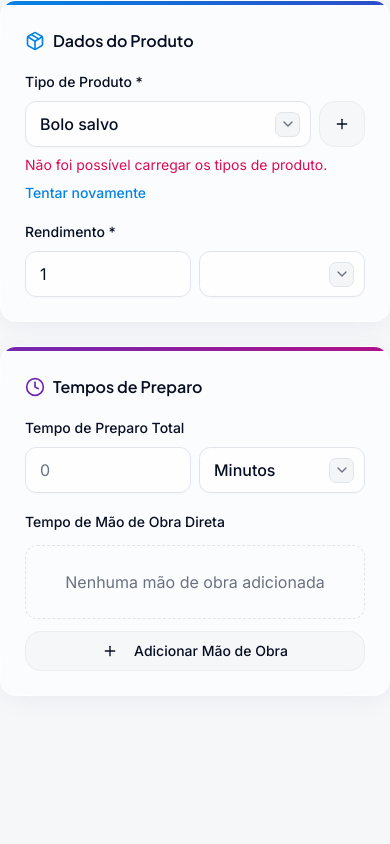
Test: product type loading and shared catalog › retries failed requests, explains the error and recovers without losing the selection
The image size is (390, 844).
Expected: the message shows "Não foi possível carregar os tipos de produto", [25,156,327,173]
Expected: the dropdown named "Tipo de Produto *" reads "Bolo salvo", [25,101,311,147]
Click the button "Tentar novamente" at (86, 193), box [25,183,146,203]
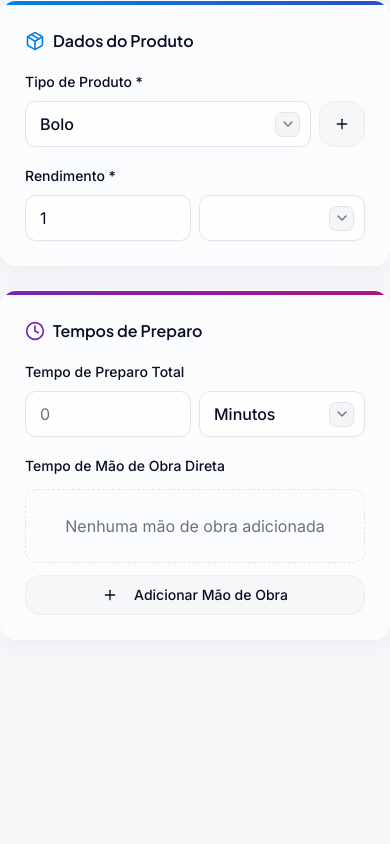
Now the message "Não foi possível carregar os tipos de produto. Tentar novamente" is gone
Now the dropdown named "Tipo de Produto *" reads "Bolo"
Press Enter in the dropdown named "Tipo de Produto *", box [25,101,311,147]
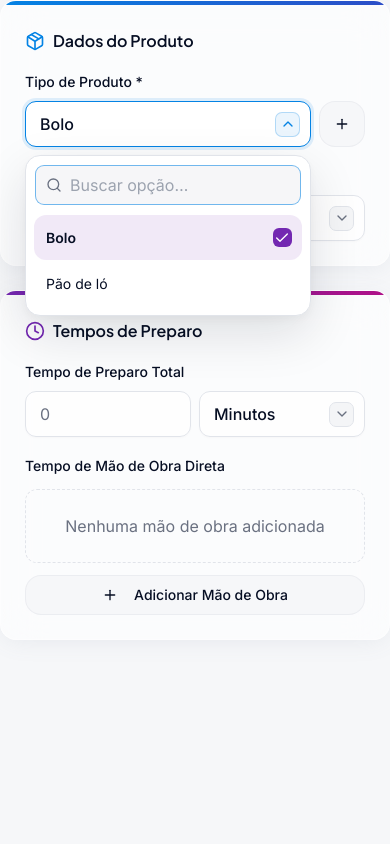
Now the option "Pão de ló" is shown, box [46,274,108,292]
